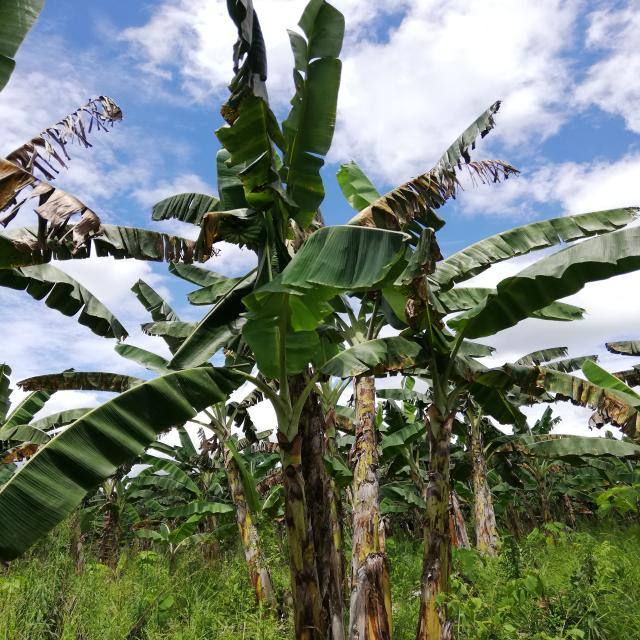Banana-plant: (327, 305, 397, 640), (258, 391, 329, 640), (415, 374, 462, 640)
